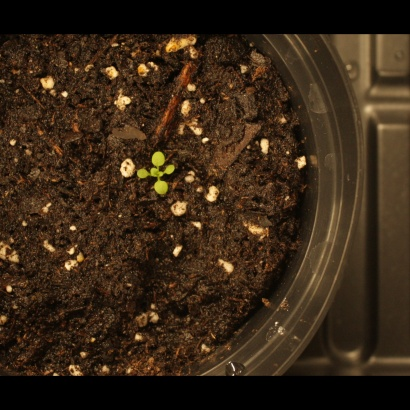leaf: (149, 180, 172, 203), (148, 145, 171, 168), (165, 157, 188, 180), (127, 165, 150, 188), (146, 162, 169, 185)
